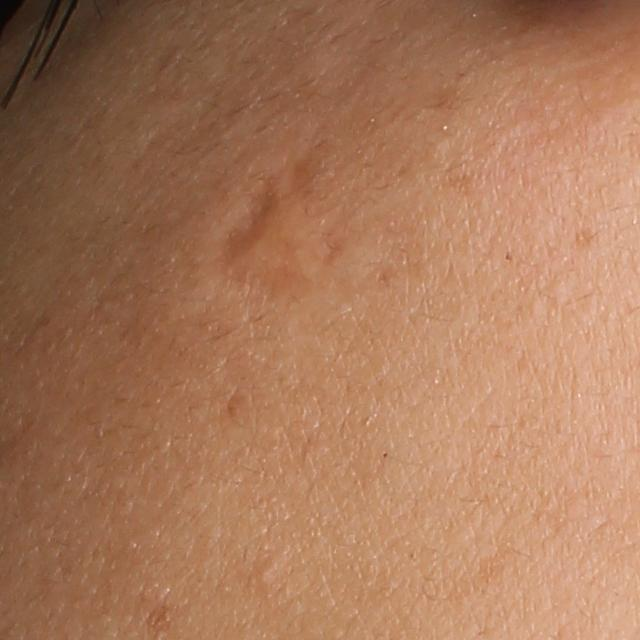atrophic_scar: (215, 177, 287, 279), (242, 242, 311, 311)
comedo: (252, 559, 279, 589)
